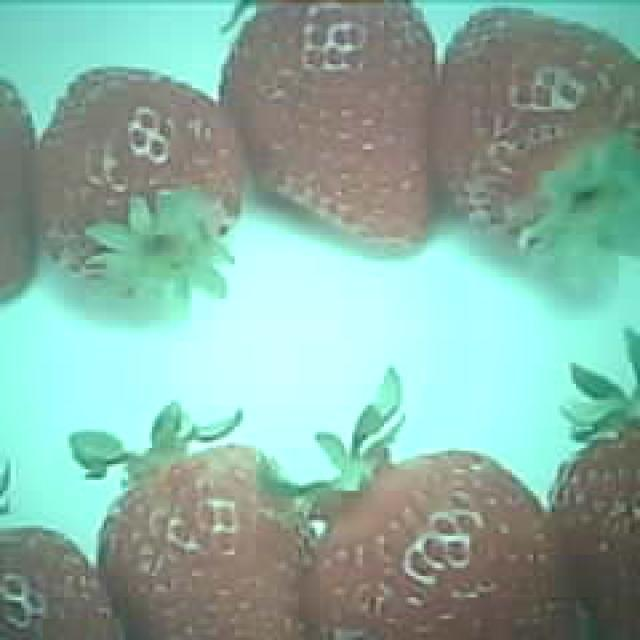ripe: (227, 3, 436, 258), (309, 451, 574, 640), (31, 62, 239, 264), (100, 445, 309, 640)
